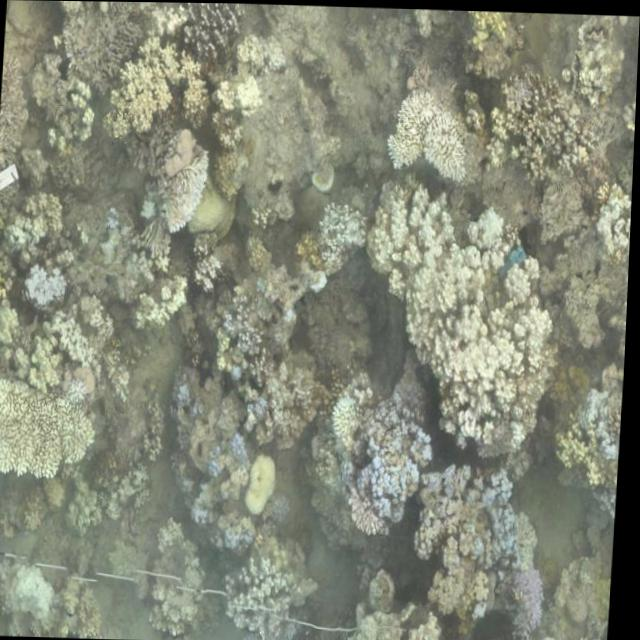Bleached Coral: (357, 222, 571, 402), (183, 362, 283, 565), (418, 449, 539, 589), (322, 388, 438, 534), (370, 87, 478, 193), (302, 181, 372, 294), (22, 246, 75, 334), (0, 562, 72, 624), (158, 147, 213, 224)
Healthy Coral: (89, 10, 266, 121), (478, 74, 605, 187)
